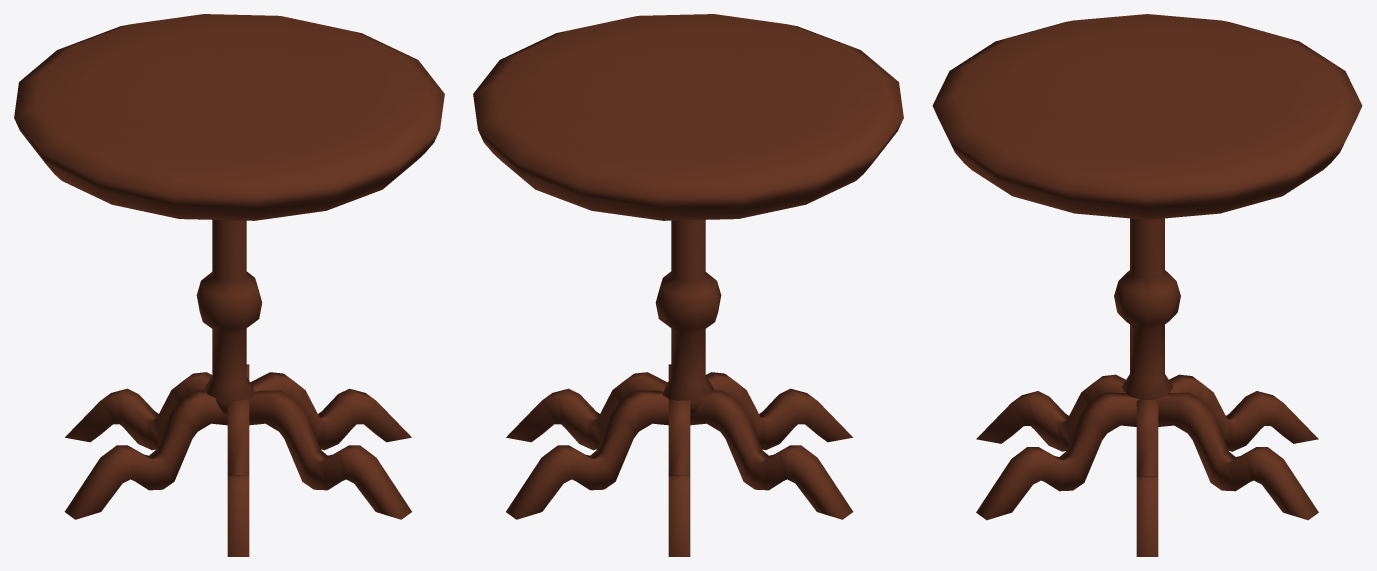
Rendered from SM_Table.fbx.
3 renders of one model, left to right at view 1: azimuth 30°, elevation 25°; view 2: azimuth 150°, elevation 25°; view 3: azimuth 270°, elevation 25°, orthographic.
Parts seen in each view (by area): view 1: pCylinder22; view 2: pCylinder22; view 3: pCylinder22.
Part boxes in pixels (x1,y1,x2,y2): pCylinder22: (14,14,444,556); pCylinder22: (473,14,903,556); pCylinder22: (932,14,1362,556).
Size of the model in its own units: 24.41 by 23.69 by 24.41.
